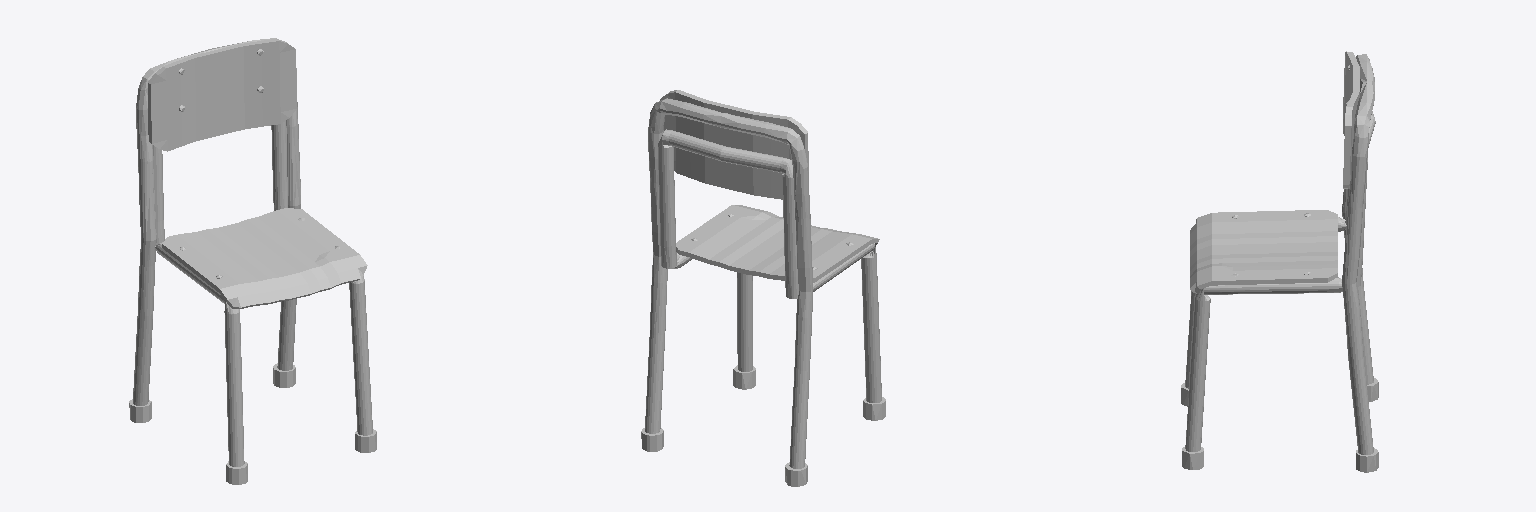
The model's file is chair.obj.
The picture shows the model from 3 angles: view 1: azimuth 30°, elevation 25°; view 2: azimuth 150°, elevation 25°; view 3: azimuth 270°, elevation 25°; orthographic projection.
Parts seen in each view (by area): view 1: Chair.001; view 2: Chair.001; view 3: Chair.001.
Boxes of the visible parts, x1=… form: Chair.001: x1=129, y1=38, x2=376, y2=484; Chair.001: x1=641, y1=90, x2=885, y2=486; Chair.001: x1=1181, y1=51, x2=1378, y2=472.
Size of the model in its own units: 0.3944 by 0.8146 by 0.411.